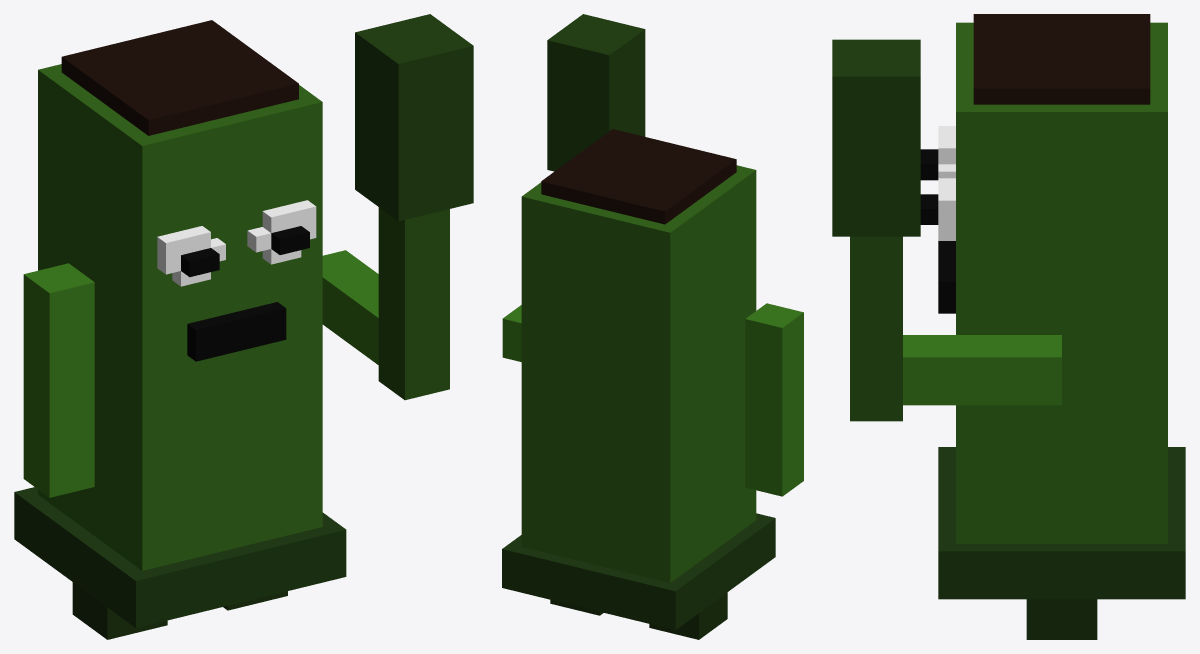
Rendered from tree_tree_tree_sahur.glb.
3 views of the same model, side by side, from view 1: azimuth 30°, elevation 25°; view 2: azimuth 150°, elevation 25°; view 3: azimuth 270°, elevation 25° (orthographic). The views are drawn at different scales.
Parts seen in each view (by area): view 1: brainrot; view 2: brainrot; view 3: brainrot.
Boxes of the visible parts, x1=… form: brainrot: x1=14, y1=14, x2=473, y2=639; brainrot: x1=502, y1=14, x2=803, y2=639; brainrot: x1=832, y1=14, x2=1185, y2=639.
Bounding box in the file's own units: 3.03 × 5 × 2.63.
Materials: 1 (1 with a texture image).
